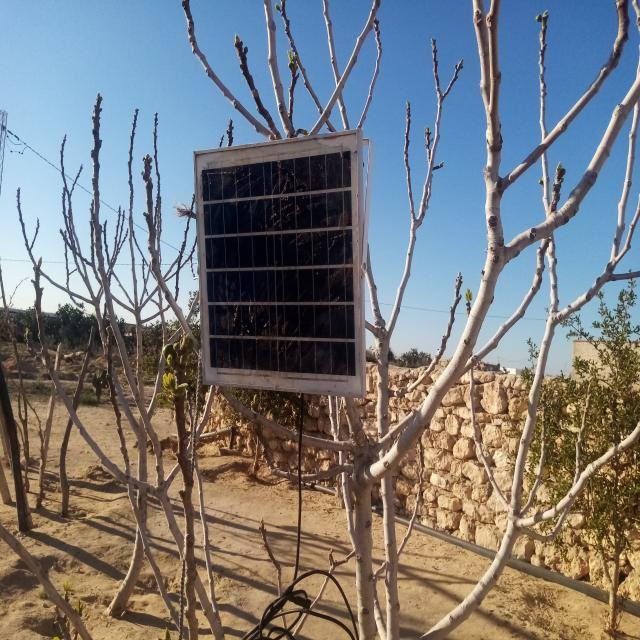faulty: (194, 129, 362, 396)
